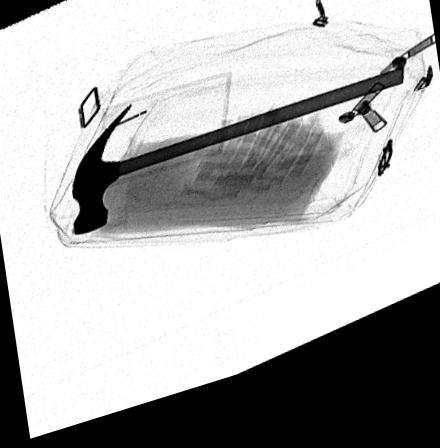Hammer: (70, 90, 405, 241)
